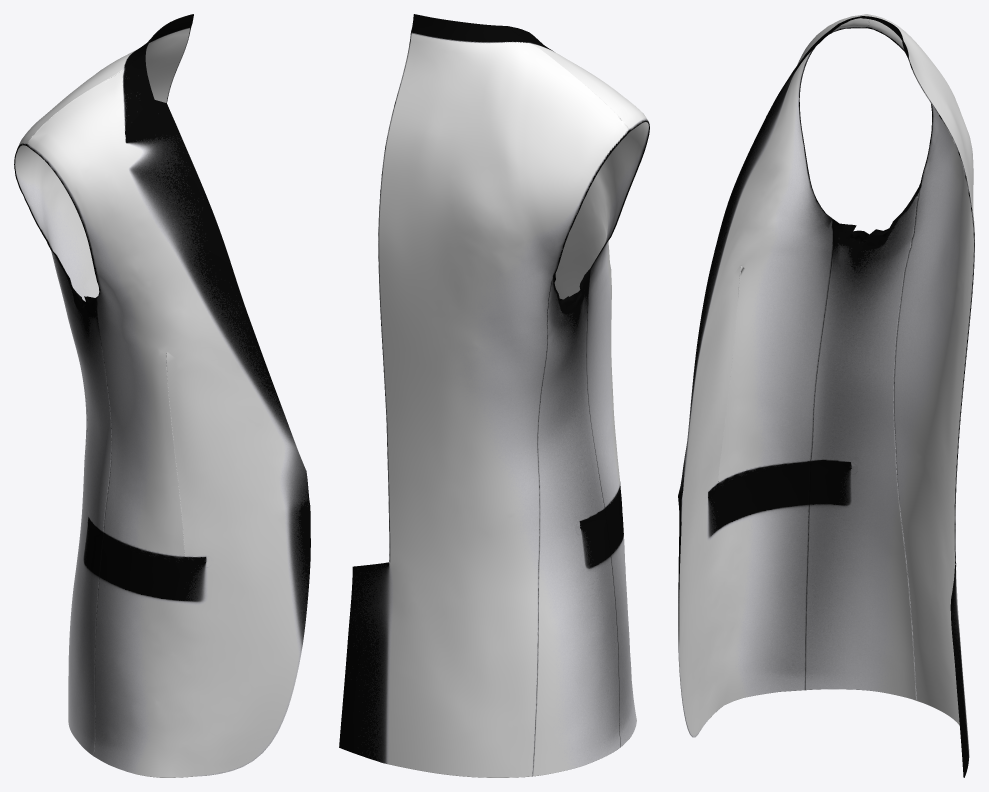
Rendered from xifudashen-R.FBX.
3 views of the same model, side by side, from view 1: azimuth 30°, elevation 25°; view 2: azimuth 150°, elevation 25°; view 3: azimuth 270°, elevation 25° (orthographic). The views are drawn at different scales.
Parts seen in each view (by area): view 1: default007; view 2: default007; view 3: default007.
Part boxes in pixels (x1,y1,x2,y2): default007: [14, 14, 310, 777]; default007: [339, 14, 649, 777]; default007: [678, 14, 974, 777].
Bounding box in the file's own units: 24.45 × 70.56 × 26.2.
1 material, 1 textured.
